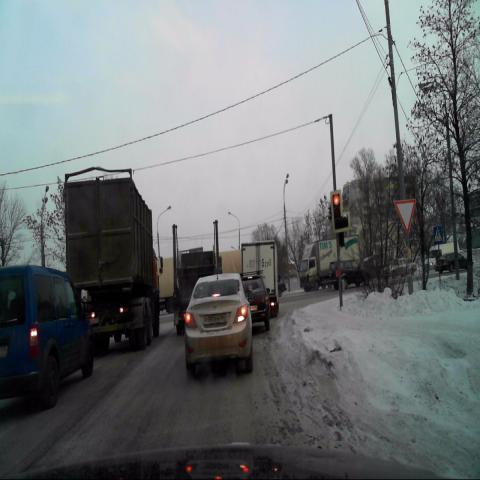2_4: (394, 200, 416, 235)
5_19_1: (433, 225, 443, 245)
